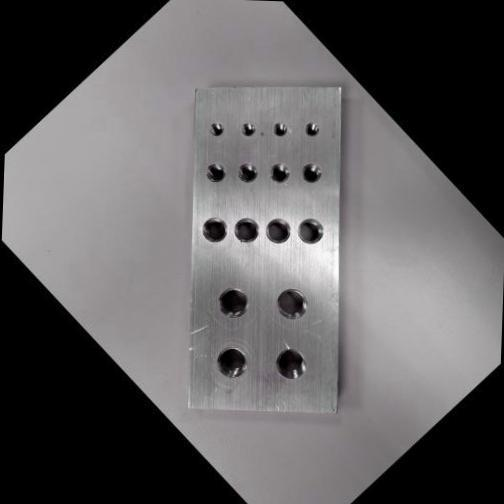hole: (206, 338, 253, 386), (208, 278, 255, 325), (266, 280, 313, 326), (266, 340, 312, 386), (290, 210, 328, 250), (193, 210, 232, 248), (226, 210, 264, 248), (258, 212, 296, 249), (262, 156, 294, 188), (198, 156, 230, 187), (230, 156, 261, 187), (294, 158, 324, 188), (299, 117, 321, 140), (267, 117, 289, 139), (235, 118, 257, 139), (204, 117, 225, 139)
